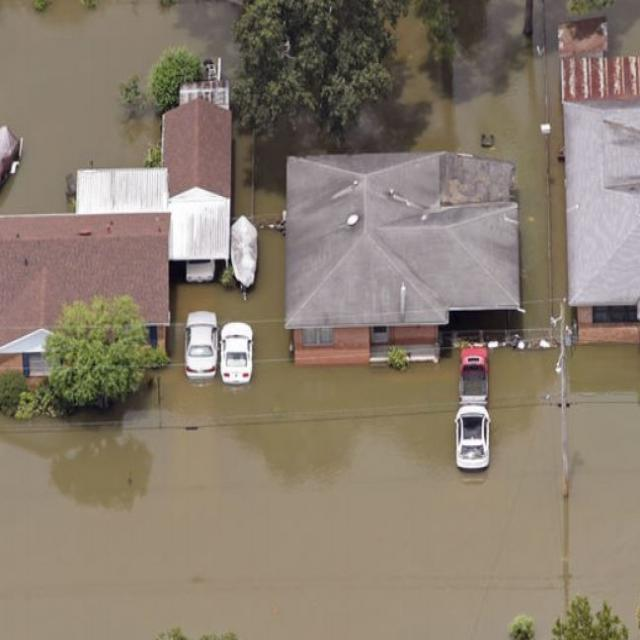flood: (0, 233, 640, 640), (338, 0, 552, 326), (0, 0, 239, 214), (546, 0, 583, 310), (257, 120, 336, 214), (587, 0, 640, 54), (233, 118, 252, 216)
house: (282, 142, 526, 360), (0, 208, 169, 363), (560, 67, 640, 342), (162, 83, 232, 276), (76, 161, 172, 218), (1, 117, 24, 206)
